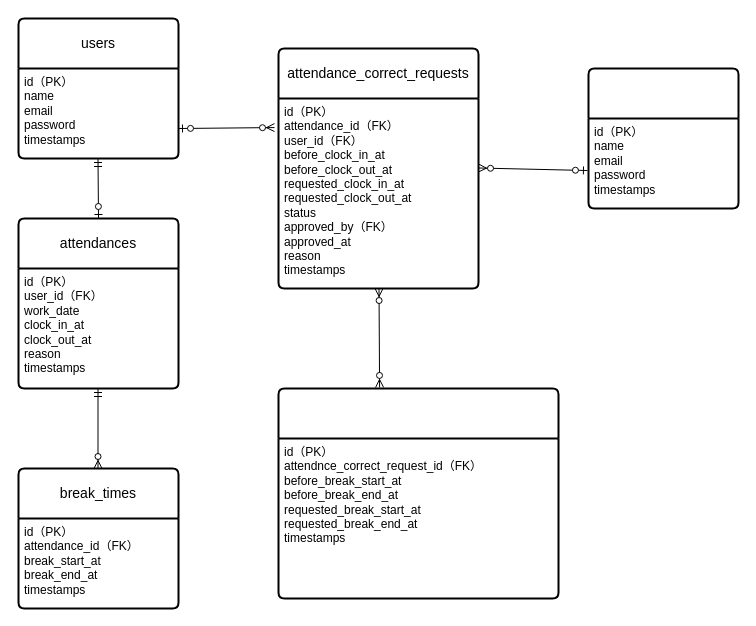
Some shapes in this 756 by 626 pixel diagram are drawn without their labels. Here are the shapes that lost their labels. From the top down, the box of each, then its label:
(587, 67, 739, 209): admins
(277, 387, 559, 599): attendance_correct_request_break_times
